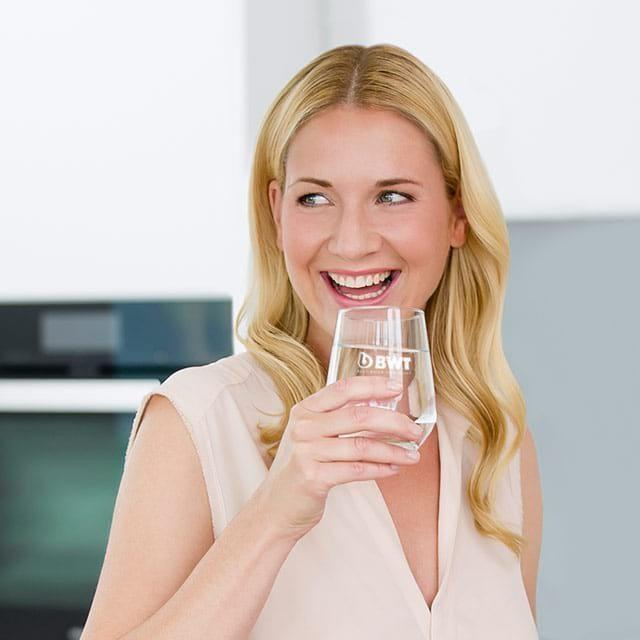glass-normal: (324, 303, 438, 450)
